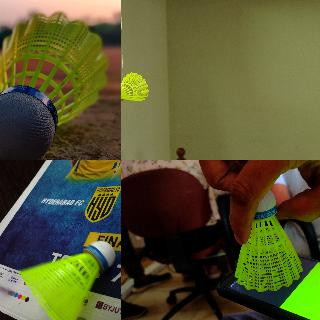shuttlecock: (0, 11, 108, 159), (21, 240, 116, 319), (235, 188, 303, 292), (121, 72, 149, 103)
